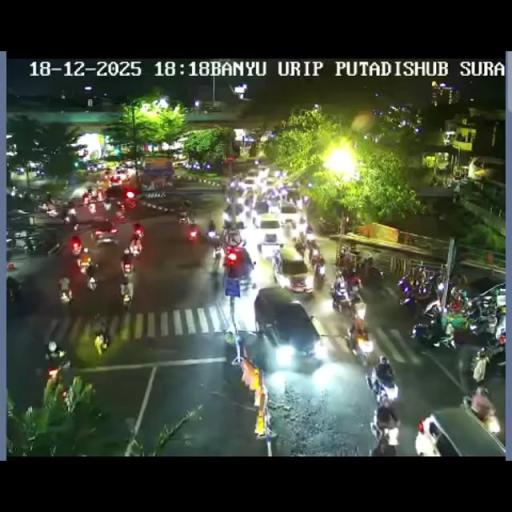Car: (254, 287, 323, 361), (270, 246, 312, 296), (142, 193, 192, 219), (255, 212, 284, 250), (280, 203, 302, 232), (224, 202, 245, 228), (252, 199, 271, 219), (111, 166, 132, 184), (244, 175, 258, 190), (264, 177, 278, 189)
Motorcycle: (63, 213, 140, 304), (370, 406, 399, 453), (413, 314, 453, 348), (414, 413, 444, 455), (370, 366, 400, 405), (348, 322, 374, 364), (330, 278, 354, 313), (470, 309, 499, 337), (456, 348, 474, 391), (91, 313, 110, 352), (418, 271, 442, 301), (223, 332, 240, 373), (481, 334, 505, 362), (44, 346, 67, 370), (362, 262, 383, 288), (396, 275, 414, 304), (448, 286, 468, 312), (482, 409, 501, 435), (311, 259, 326, 288), (210, 242, 224, 273), (422, 299, 442, 320), (6, 276, 22, 302), (238, 268, 256, 290), (338, 247, 356, 269), (318, 216, 339, 234), (306, 238, 321, 262), (205, 227, 221, 248), (94, 232, 118, 246), (58, 283, 73, 304), (452, 265, 466, 287), (46, 367, 60, 388), (120, 285, 132, 309), (353, 300, 366, 322), (128, 238, 142, 258), (77, 254, 91, 272), (121, 253, 133, 274), (294, 239, 306, 258), (114, 204, 126, 222), (243, 205, 255, 223), (25, 236, 37, 254), (46, 204, 60, 218), (86, 275, 98, 291), (133, 222, 144, 238), (6, 236, 16, 253), (70, 242, 82, 256), (188, 226, 198, 242), (304, 222, 314, 238), (178, 212, 190, 225), (64, 212, 76, 225), (182, 198, 192, 213), (125, 197, 137, 209), (87, 200, 97, 214), (108, 222, 118, 234), (34, 167, 45, 177), (103, 199, 112, 211), (302, 194, 310, 206), (10, 186, 18, 198), (72, 221, 81, 231), (82, 194, 90, 205), (97, 189, 104, 201)
